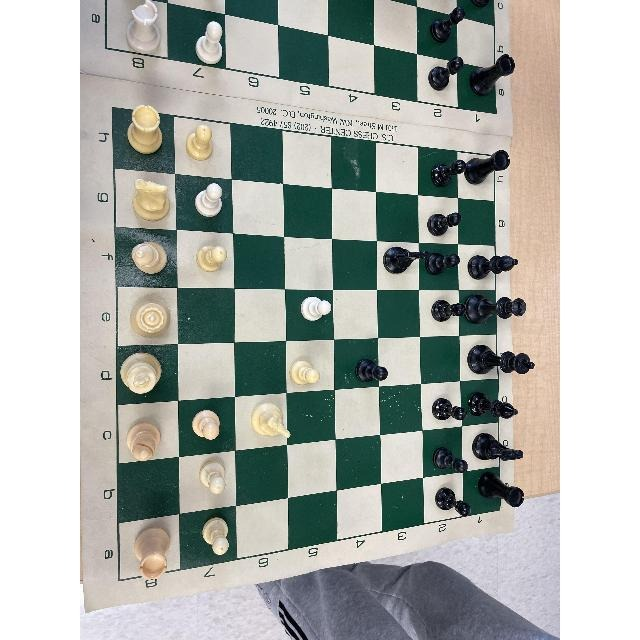black-bishop: (466, 392, 524, 422), (467, 252, 519, 282)
black-king: (465, 342, 536, 380)
black-knight: (472, 431, 524, 463), (382, 246, 432, 278)
black-pawn: (430, 6, 466, 46), (426, 56, 464, 91), (432, 486, 472, 518), (430, 157, 467, 191), (430, 445, 469, 475), (351, 357, 390, 385), (427, 208, 463, 238), (430, 398, 468, 422), (430, 299, 468, 323), (425, 252, 460, 277)
black-queen: (462, 291, 528, 326)
black-rook: (470, 55, 518, 97), (476, 470, 524, 508), (464, 149, 512, 185)
white-bishop: (126, 421, 162, 462), (129, 242, 169, 274)
white-king: (118, 353, 162, 394)
white-knight: (132, 178, 172, 221), (251, 402, 291, 441)
white-pawn: (195, 20, 225, 65), (183, 124, 215, 159), (200, 518, 229, 556), (194, 183, 223, 218), (199, 460, 227, 495), (192, 409, 221, 440), (195, 244, 227, 272), (289, 360, 321, 388), (300, 296, 332, 322)
white-queen: (129, 299, 171, 339)
white-rook: (132, 526, 172, 578), (124, 103, 163, 155), (126, 0, 162, 56)
